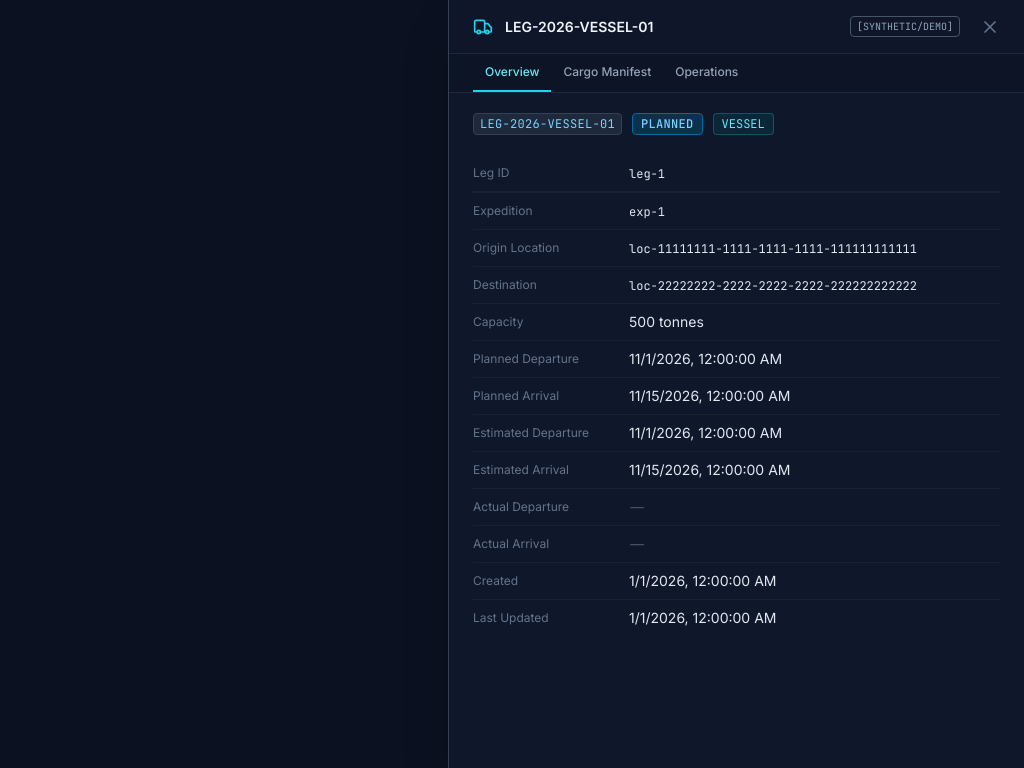
Test: TransportLegDetailPanel › renders transport leg overview and switches to cargo tab
Expected: the text "500 tonnes" is shown, left=629, top=312, right=704, bottom=332
Expected: the text "VESSEL" is shown, left=712, top=113, right=774, bottom=135
Switch to Cargo Manifest tab
Click the button "Cargo Manifest": (607, 73) left=552, top=54, right=663, bottom=92
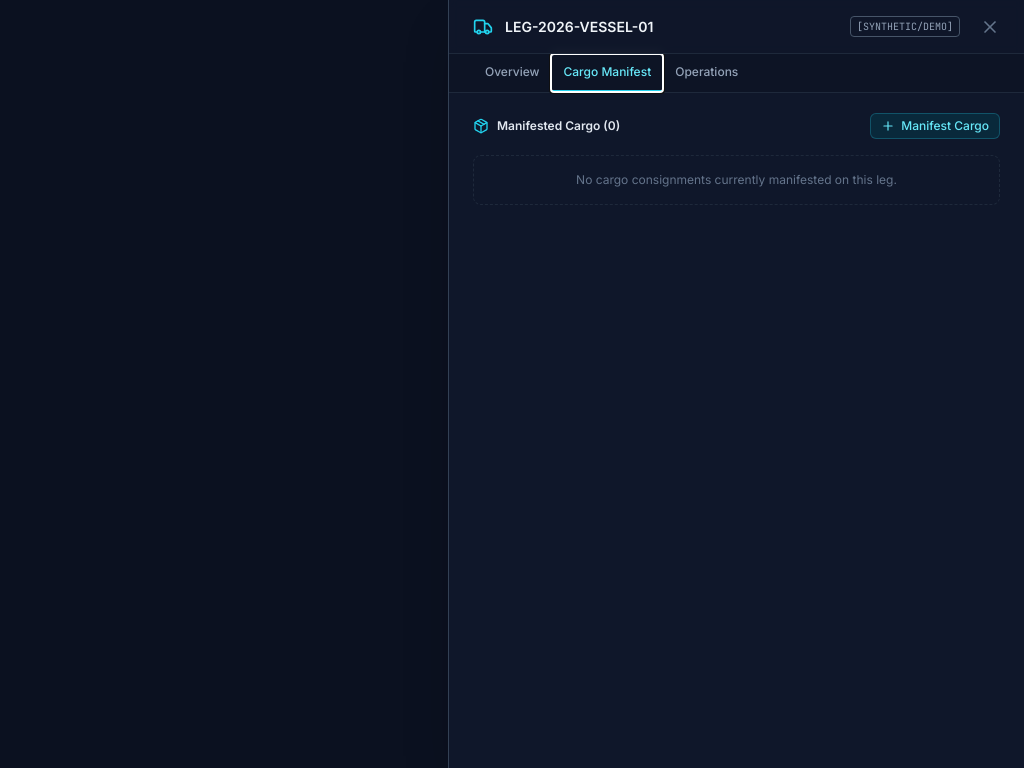
Now the heading "Manifested Cargo (0)" is shown, box left=497, top=118, right=620, bottom=134
Now the text "No cargo consignments currently manifested on this leg." is shown, box left=473, top=155, right=1000, bottom=205
